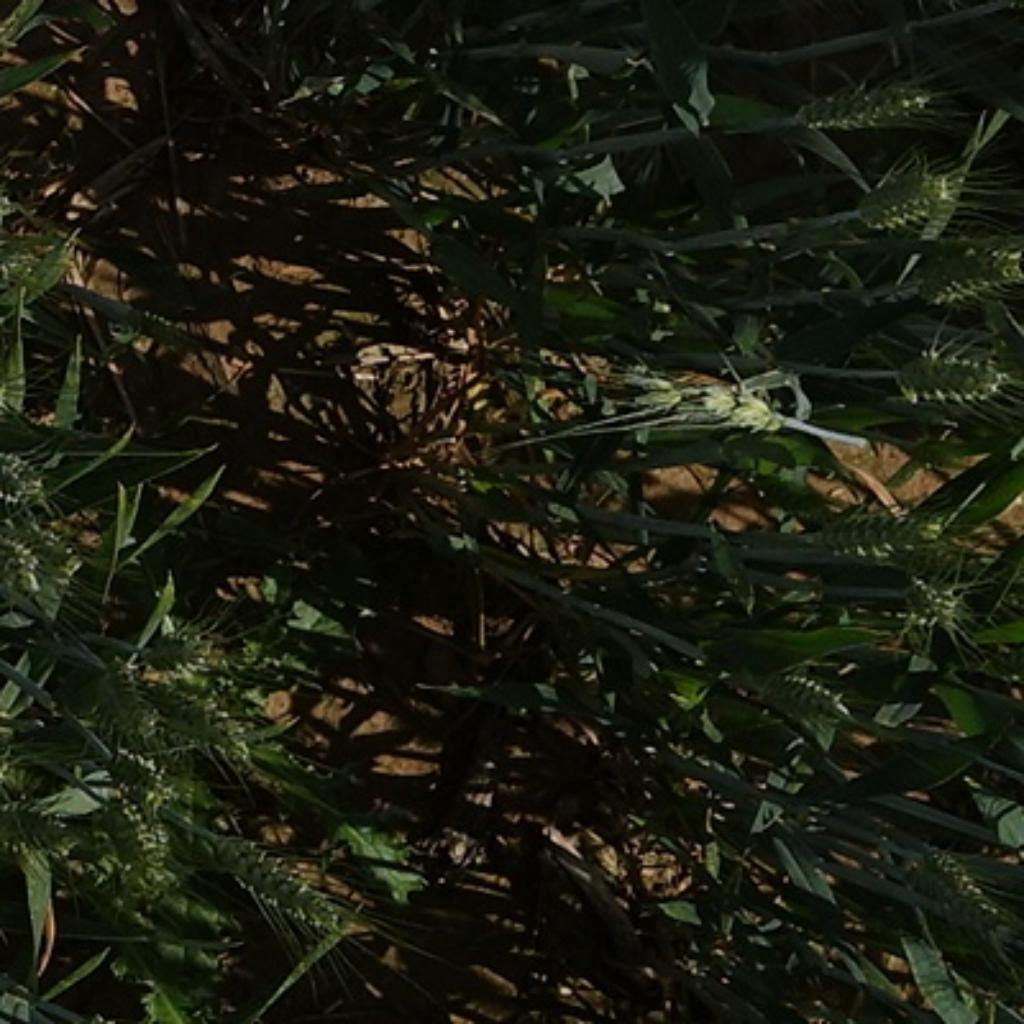0-0: (209, 831, 368, 952), (615, 365, 804, 437), (74, 652, 184, 757), (798, 501, 962, 570), (109, 801, 183, 947), (788, 66, 936, 135), (148, 678, 268, 762), (914, 844, 1012, 943), (849, 159, 969, 239), (885, 335, 1013, 407), (81, 734, 181, 819), (737, 660, 852, 732), (115, 627, 243, 686), (0, 223, 83, 310), (901, 552, 970, 647), (919, 245, 1024, 307), (0, 515, 58, 610), (0, 793, 66, 867), (0, 445, 53, 504), (0, 363, 35, 442)
